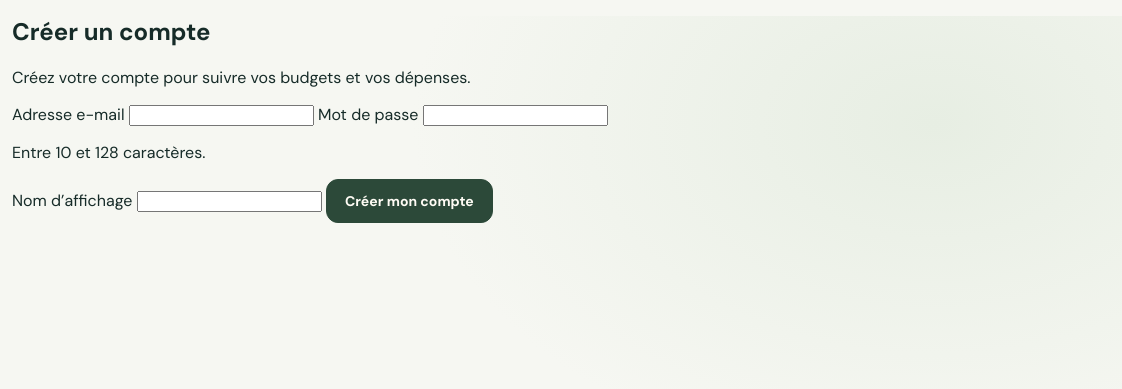
Test: Formulaire d’inscription › relie les erreurs d’un 422 à leurs champs et place le focus sur le premier
Type "alice@example.test" into the field labelled "Adresse e-mail" at (221, 115), box x1=129 y1=105 x2=314 y2=126
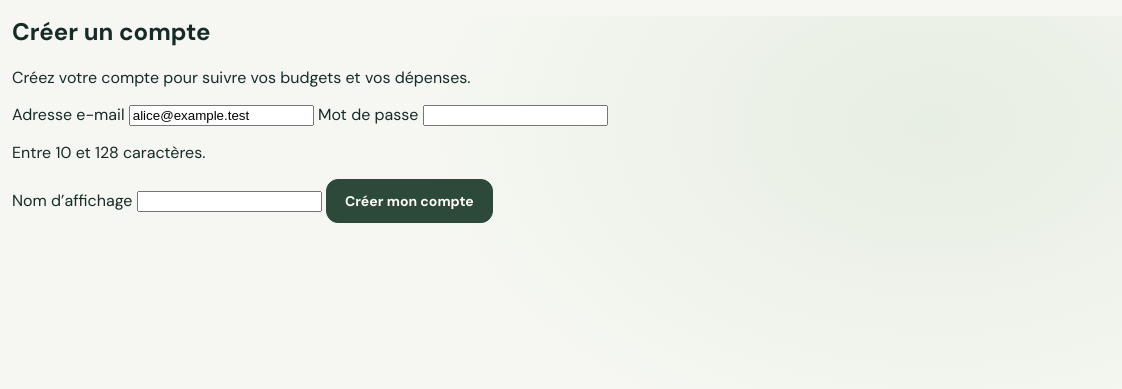
Type "mot-de-passe-solide" into the password field labelled "Mot de passe" at (515, 115), box x1=423 y1=105 x2=608 y2=126
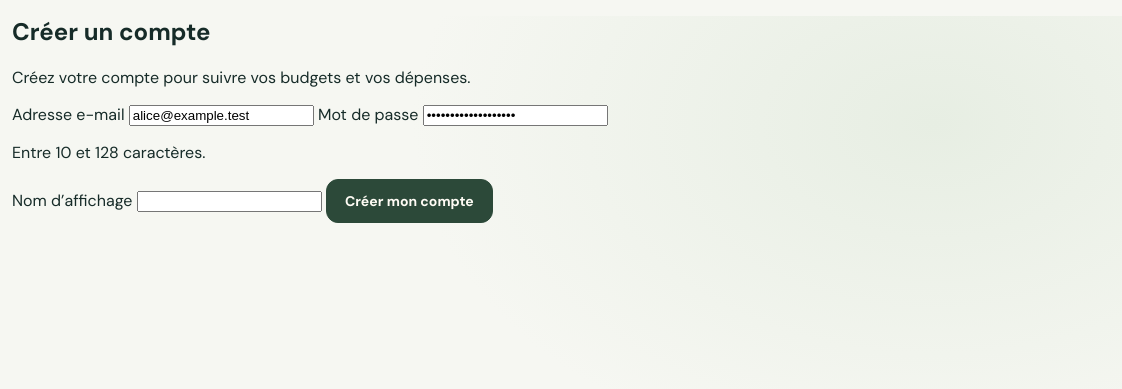
Type "Alice" into the field labelled "Nom d’affichage" at (229, 201), box x1=137 y1=191 x2=322 y2=212
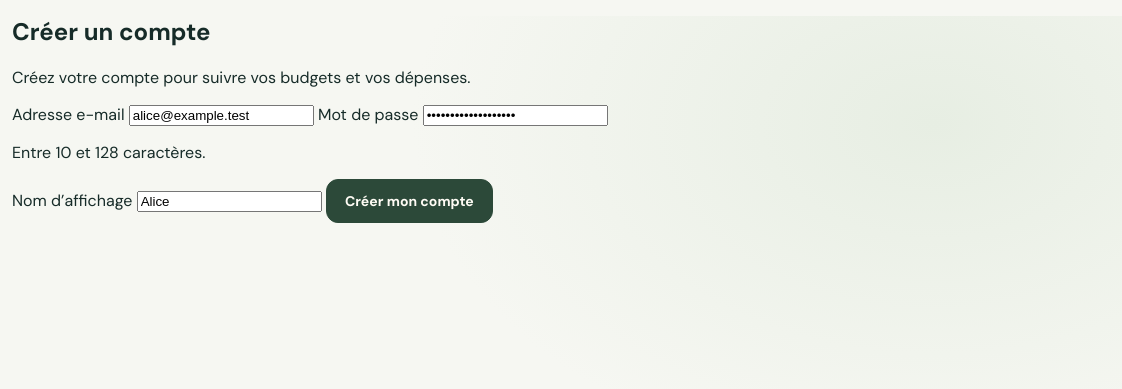
Click the button "Créer mon compte" at (409, 201), box x1=326 y1=179 x2=493 y2=223
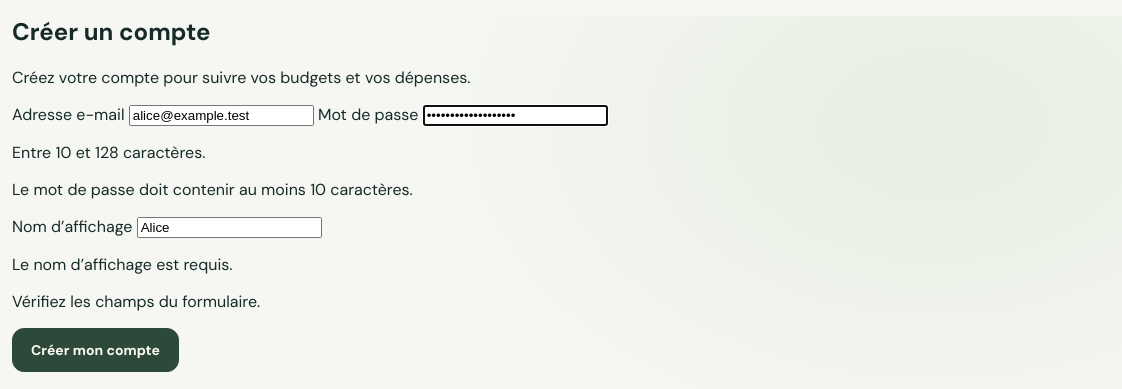
Expected: the message reads "Vérifiez les champs du formulaire.", x1=12 y1=291 x2=260 y2=312
